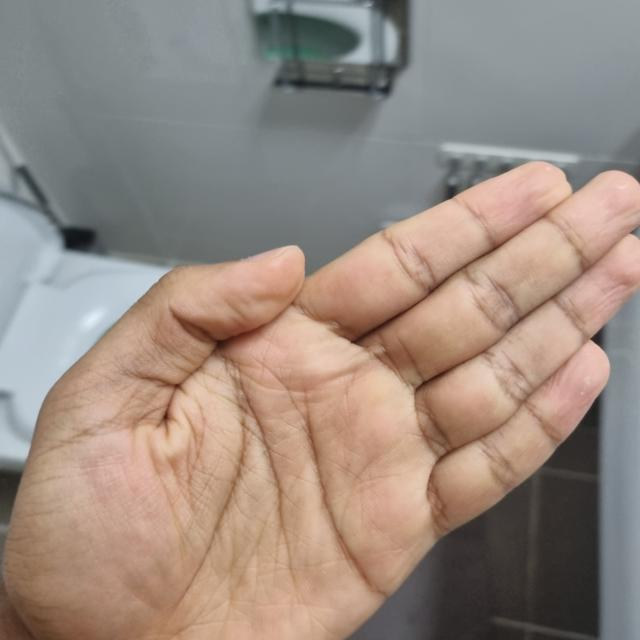Paper: (1, 163, 640, 639)
